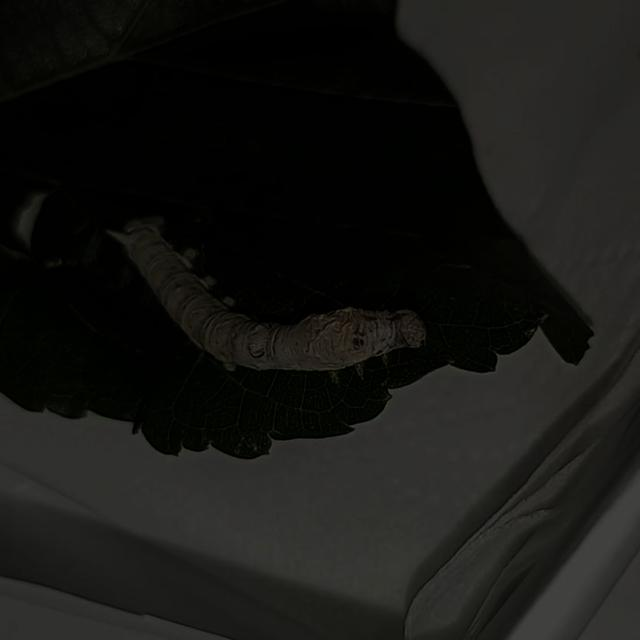Healthy: (107, 206, 430, 394)
